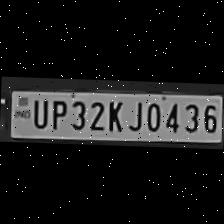0: (142, 98, 160, 132)
2: (86, 96, 104, 130)
3: (66, 96, 86, 130), (182, 98, 198, 132)
4: (162, 98, 180, 132)
6: (200, 99, 218, 132)
J: (125, 96, 142, 132)
K: (103, 96, 125, 132)
P: (46, 95, 66, 129)
U: (28, 96, 48, 128)
